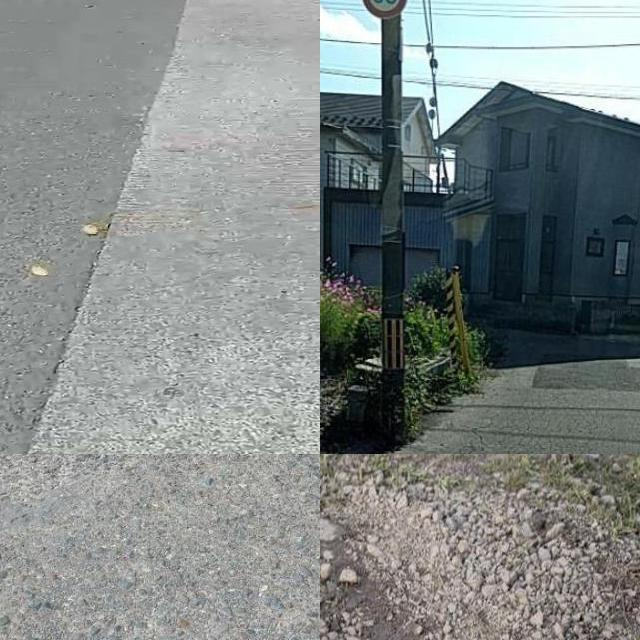Pinggir: (320, 467, 461, 640)
Sambungan: (15, 0, 320, 454), (534, 363, 640, 393)
